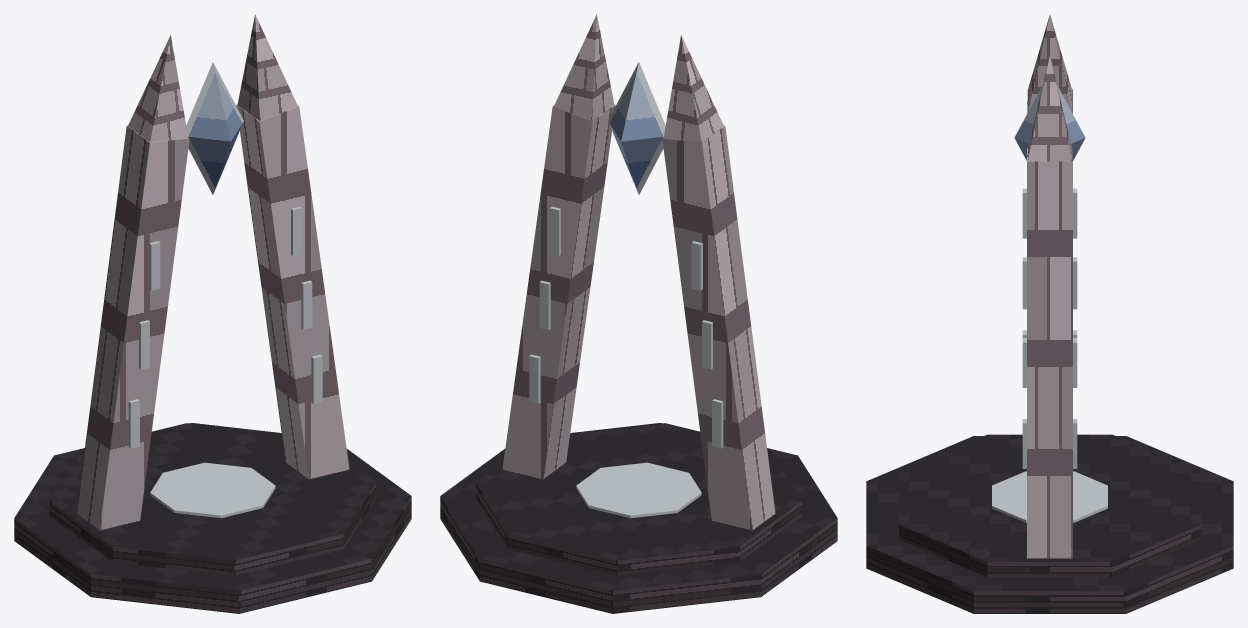
Rendered from teleporter_unlocked.glb.
The picture shows the model from 3 angles, left to right: view 1: azimuth 30°, elevation 25°; view 2: azimuth 150°, elevation 25°; view 3: azimuth 270°, elevation 25°; orthographic projection.
Visible parts, largest first — view 1: body, crystal; view 2: body, crystal; view 3: body, crystal.
Boxes of the visible parts, left/top/right/bottom form: body: left=14, top=14, right=411, bottom=613; crystal: left=186, top=62, right=243, bottom=194; body: left=440, top=14, right=837, bottom=613; crystal: left=608, top=62, right=665, bottom=194; body: left=866, top=15, right=1233, bottom=613; crystal: left=1014, top=85, right=1085, bottom=160.
Bounding box in the file's own units: 1.76 × 2.65 × 1.76.
1 material, 1 textured.
